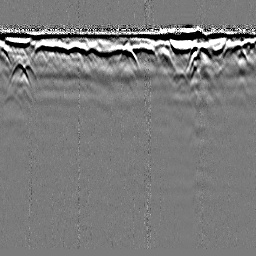cavity: (117, 42, 140, 68)
